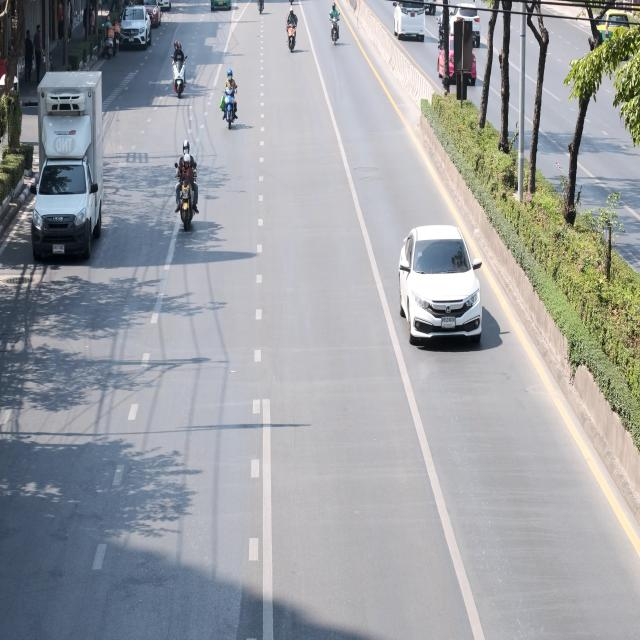cars: (380, 193, 494, 382), (30, 56, 114, 282), (427, 30, 481, 99), (382, 0, 428, 54), (448, 2, 484, 55), (111, 8, 152, 51), (126, 0, 163, 37)
motorcycle: (171, 125, 205, 243), (214, 64, 245, 147), (164, 24, 189, 120), (272, 1, 302, 75), (92, 20, 113, 85), (325, 0, 348, 50), (111, 16, 121, 54)
